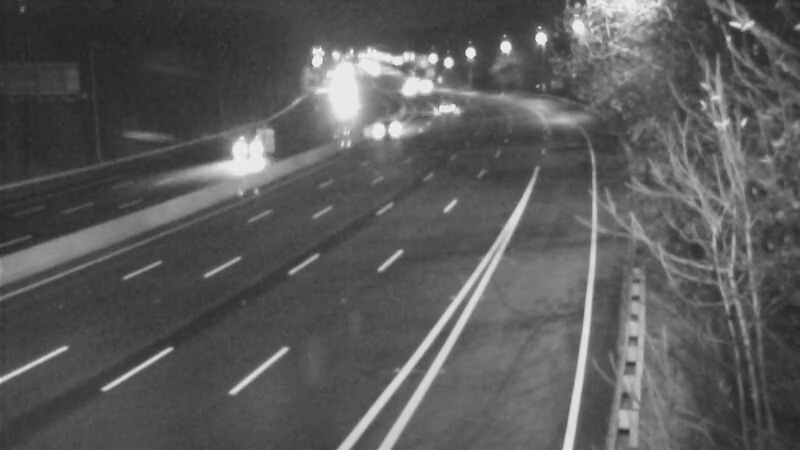vehicle: (420, 80, 470, 130), (350, 98, 400, 148), (254, 119, 304, 169)
